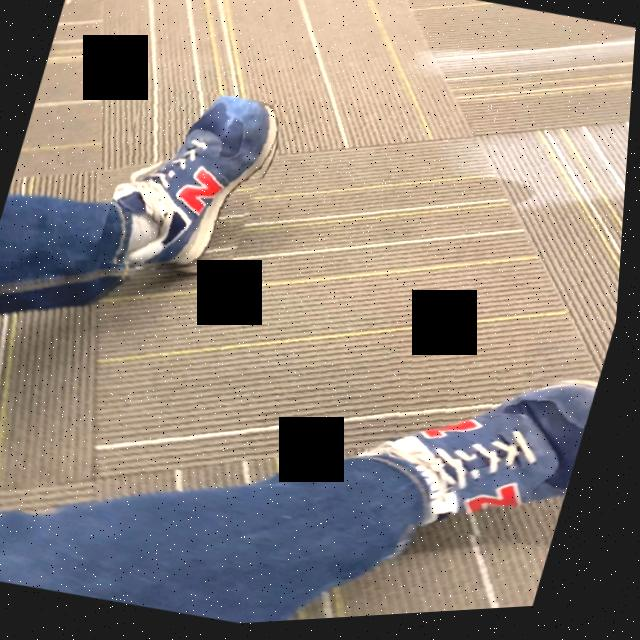shoe: (371, 392, 602, 533), (113, 98, 281, 268)
